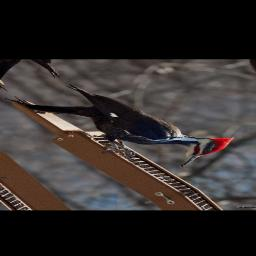Woodpecker: (4, 66, 254, 183)
